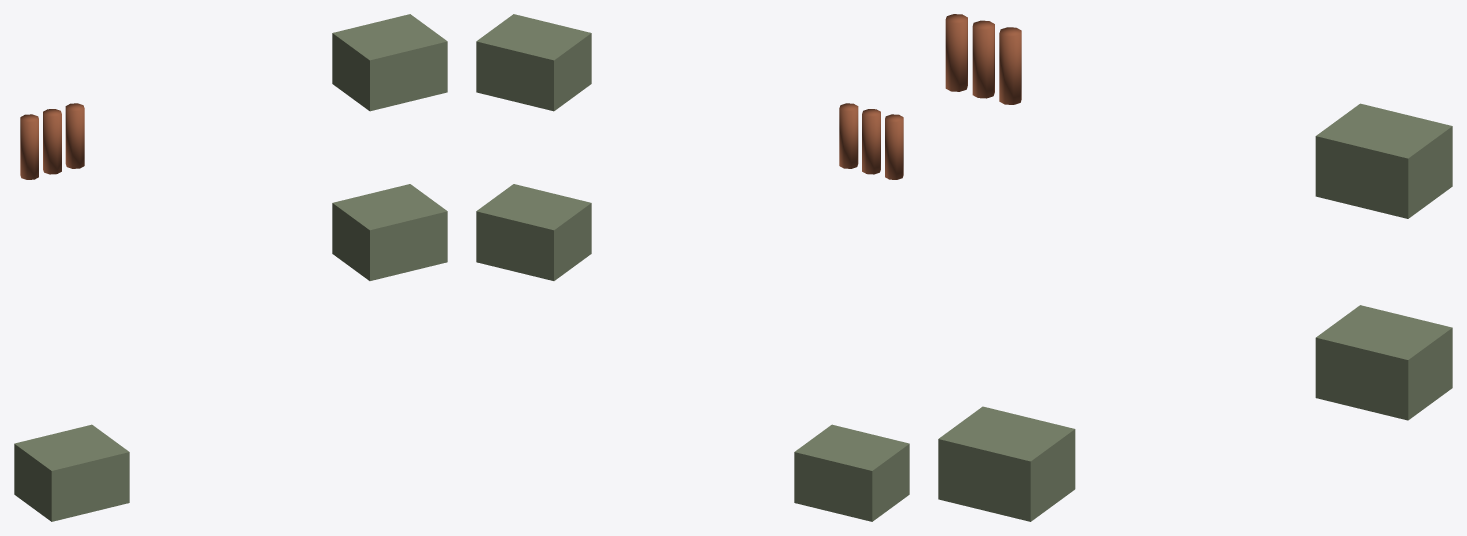
The model's file is shelf_bin_contents.glb.
The picture shows the model from 3 angles, left to right: view 1: azimuth 30°, elevation 25°; view 2: azimuth 150°, elevation 25°; view 3: azimuth 330°, elevation 25°; orthographic projection. The views are drawn at different scales.
Parts seen in each view (by area): view 1: shelf_bin_contents; view 2: shelf_bin_contents; view 3: shelf_bin_contents.
Boxes of the visible parts, <box> form: shelf_bin_contents: <box>14,14,447,521</box>; shelf_bin_contents: <box>476,14,909,521</box>; shelf_bin_contents: <box>938,14,1452,521</box>.
Size of the model in its own units: 1.26 by 1.15 by 0.2.
